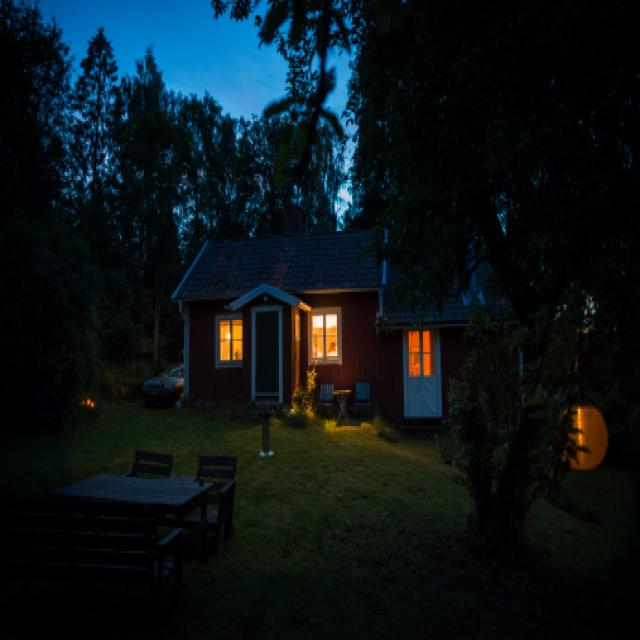Table: (43, 460, 223, 573)
chair: (191, 434, 248, 533), (131, 434, 175, 506)
